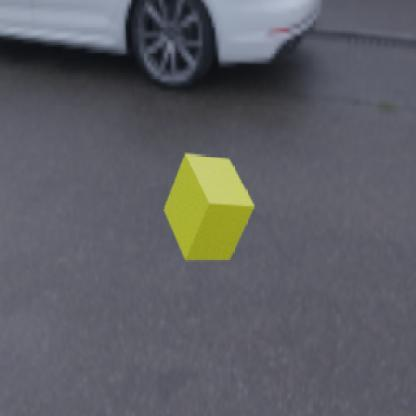cube: (162, 152, 254, 260)
